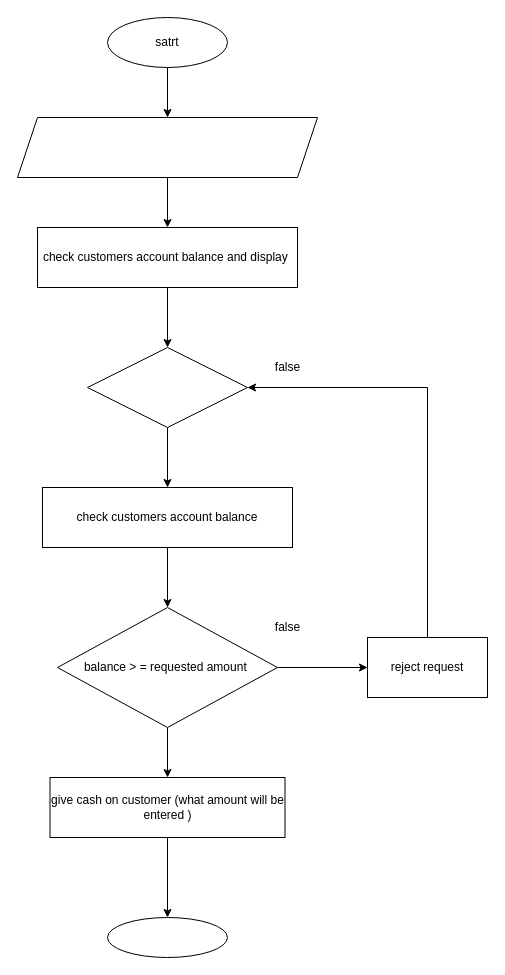
The diagram is 505 pixels wide and 975 high, and some of its shapes have lost their labels. The box of each missing label's shape, as (x1, y1, x2, y2) in pixels:
customer wants request to withdraw balance: (16, 116, 318, 178)
if valid details: (86, 346, 248, 428)
stop: (106, 916, 228, 958)
